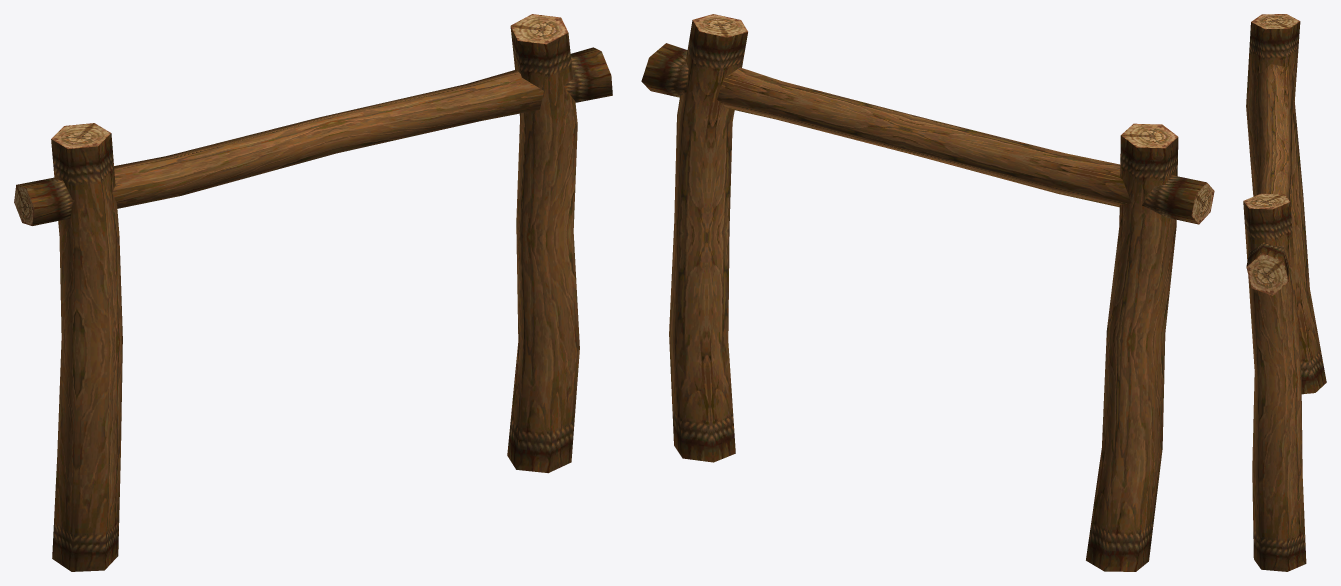
File: environment_common_muliang_002_a.FBX
3 renders of one model, left to right at view 1: azimuth 30°, elevation 25°; view 2: azimuth 150°, elevation 25°; view 3: azimuth 270°, elevation 25°, orthographic. The views are drawn at different scales.
Parts seen in each view (by area): view 1: environment_common_muliang_002_a; view 2: environment_common_muliang_002_a; view 3: environment_common_muliang_002_a.
Part boxes in pixels (x1=…): environment_common_muliang_002_a: x1=14, y1=14, x2=612, y2=571; environment_common_muliang_002_a: x1=641, y1=14, x2=1214, y2=571; environment_common_muliang_002_a: x1=1243, y1=14, x2=1326, y2=571.
Bounding box in the file's own units: 815 × 594 × 125.
